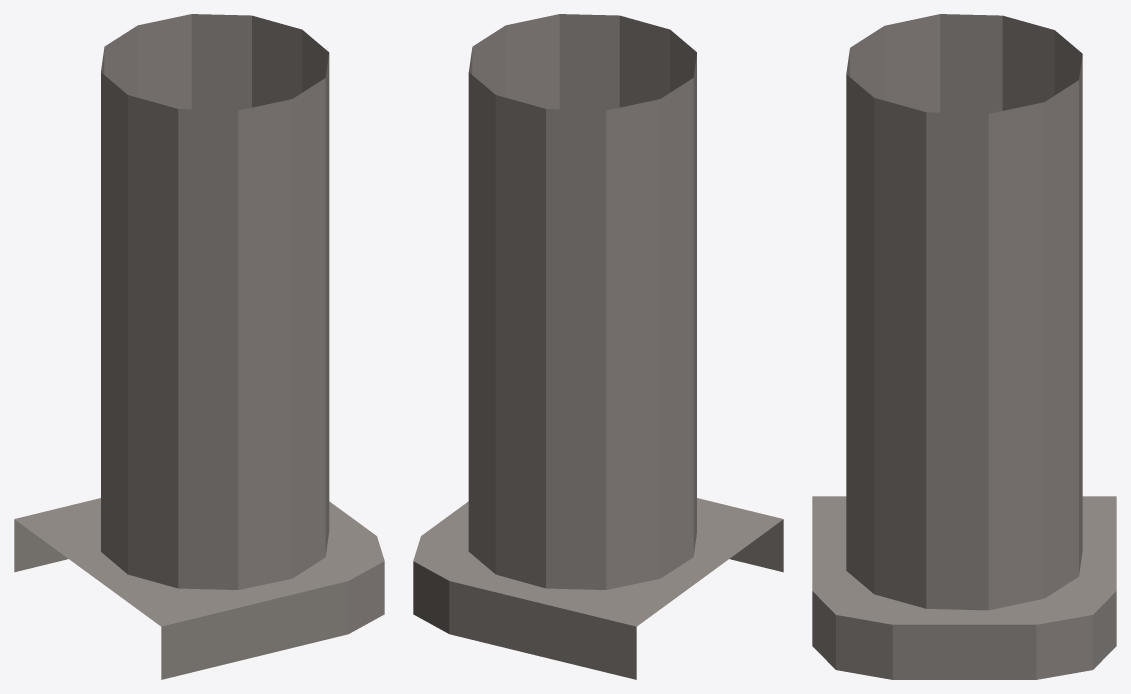
File: SM_pillar_03_002.glb
The picture shows the model from 3 angles, left to right: view 1: azimuth 30°, elevation 25°; view 2: azimuth 150°, elevation 25°; view 3: azimuth 270°, elevation 25°; orthographic projection. The views are drawn at different scales.
Visible parts, largest first — view 1: SM_pillar_03.002; view 2: SM_pillar_03.002; view 3: SM_pillar_03.002.
Part boxes in pixels (x1=…): SM_pillar_03.002: x1=14, y1=14, x2=384, y2=679; SM_pillar_03.002: x1=413, y1=14, x2=783, y2=679; SM_pillar_03.002: x1=812, y1=14, x2=1116, y2=679.
Bounding box in the file's own units: 1 × 2 × 1.
1 material, 1 textured.
